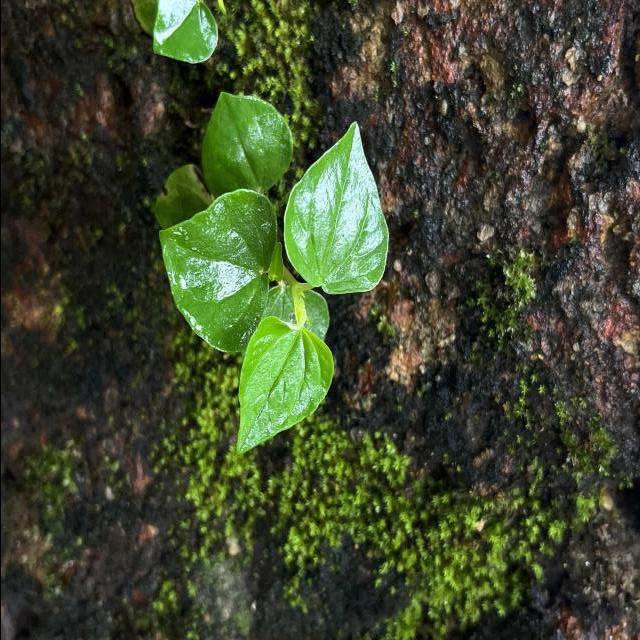Peperomia pellucida: (154, 186, 280, 358), (281, 120, 391, 296), (233, 314, 337, 458)
